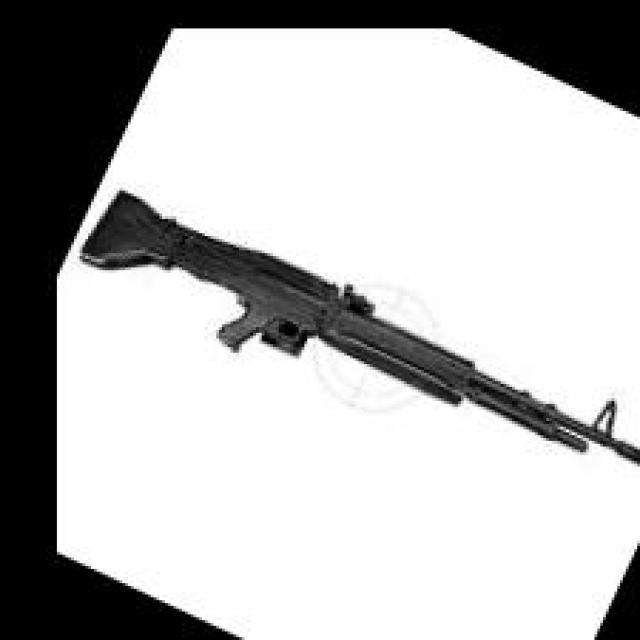weapon: (77, 185, 640, 466)
